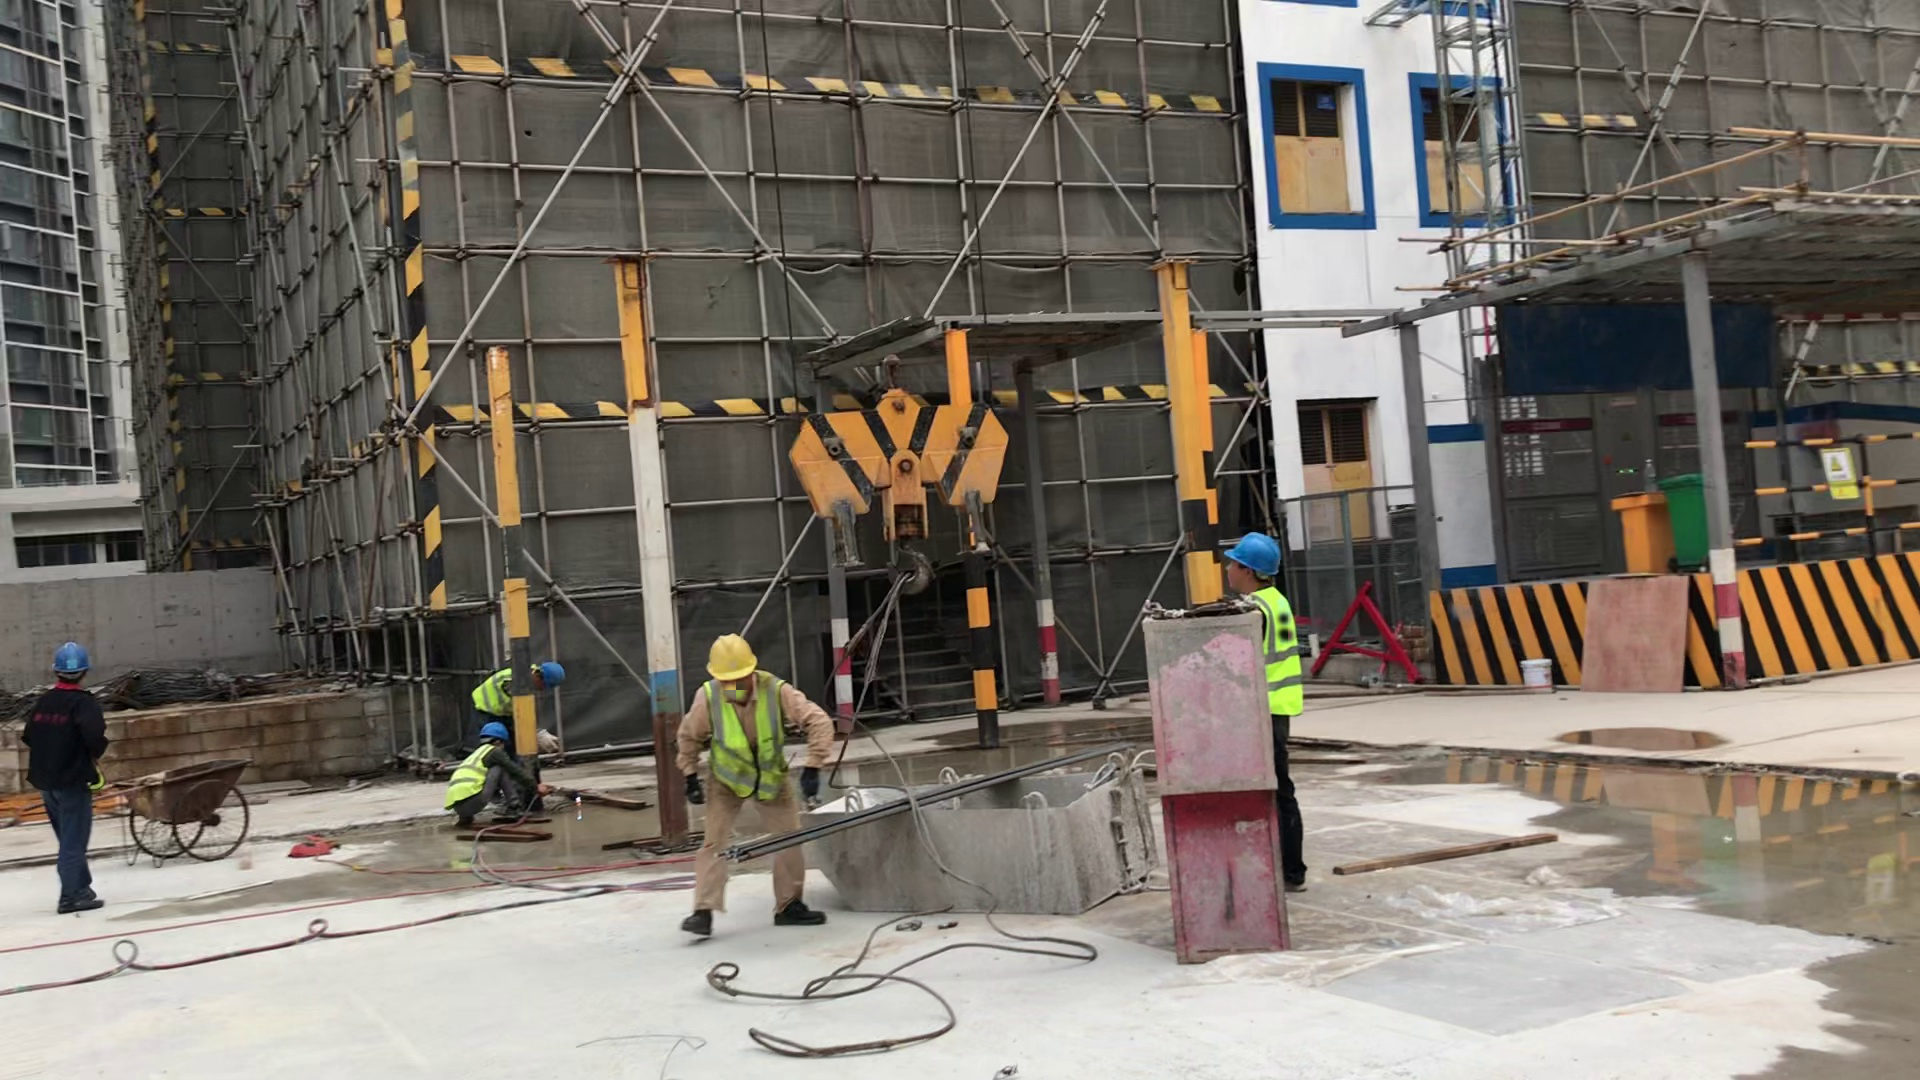fence: (1710, 423, 1920, 583)
handcart: (114, 739, 258, 873)
helmet: (1221, 523, 1293, 589), (694, 622, 763, 685), (44, 630, 97, 680), (527, 657, 574, 700), (466, 714, 515, 747)
hook: (773, 342, 1040, 601)
hopper: (788, 761, 1172, 927)
person: (1146, 501, 1363, 893), (655, 614, 861, 954), (12, 618, 158, 933), (425, 711, 562, 845), (466, 630, 586, 754)
rebar: (710, 780, 1045, 865)
slogan: (1811, 438, 1867, 522)
vest: (690, 673, 802, 805), (1234, 584, 1328, 724), (443, 740, 500, 815), (467, 663, 535, 716)
